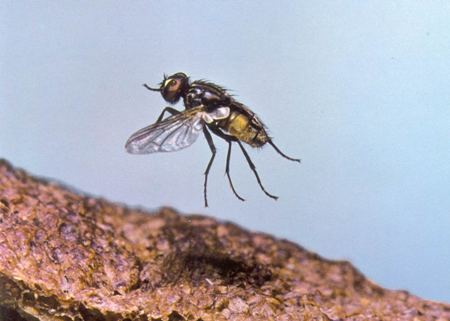house fly: (118, 69, 308, 216)
